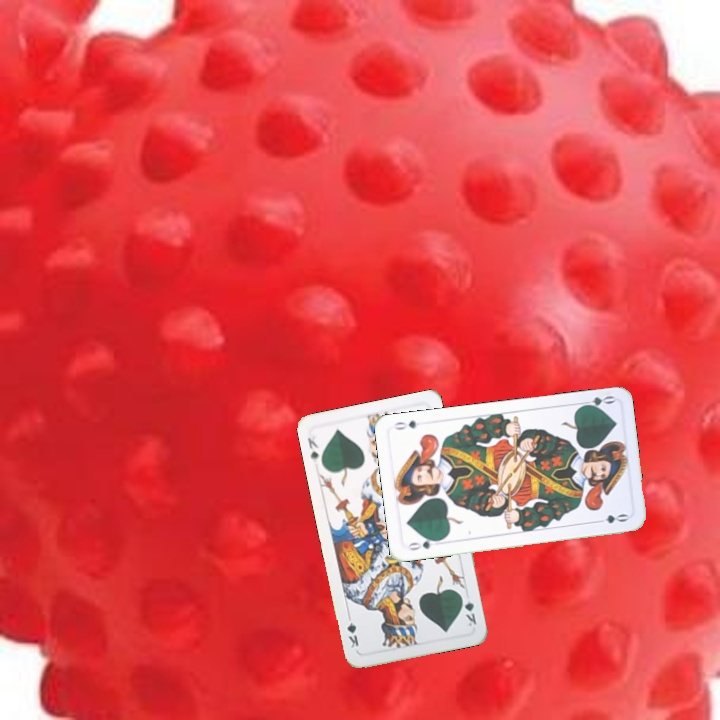GK: (457, 591, 479, 629), (303, 433, 322, 465)
GO: (403, 534, 444, 553), (576, 392, 617, 411)
